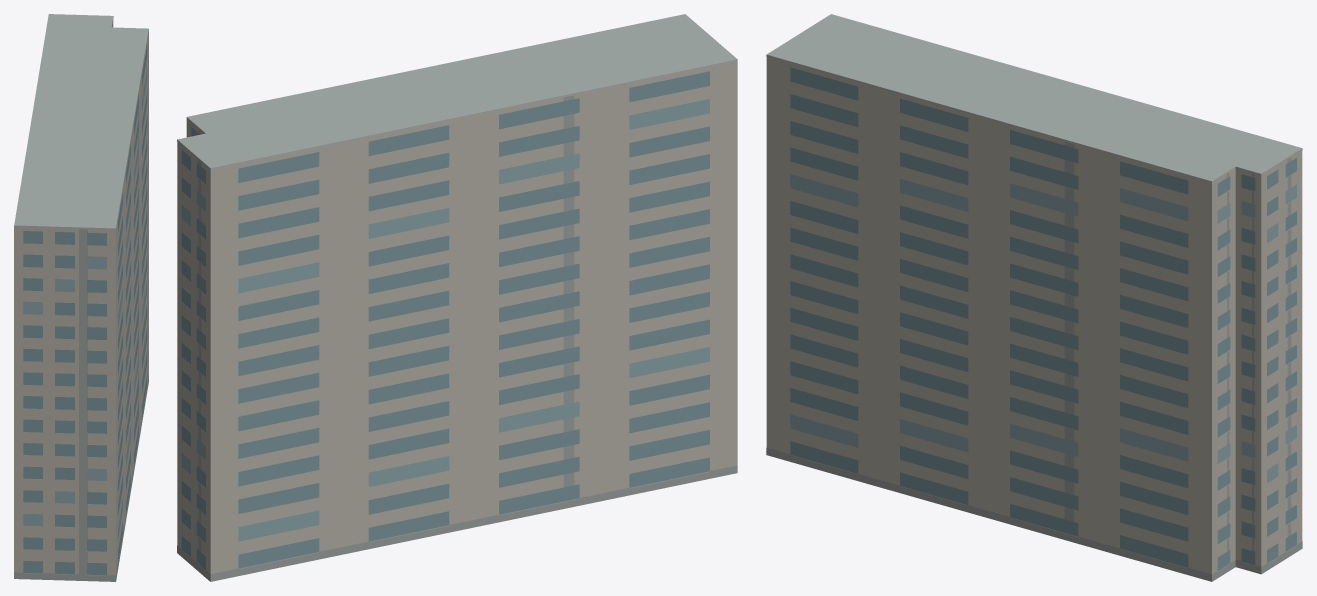
The model's file is residential-fb25520d-c044-4dc0-ac89-6757f46bca53.glb.
The picture shows the model from 3 angles, left to right: view 1: azimuth 30°, elevation 25°; view 2: azimuth 150°, elevation 25°; view 3: azimuth 270°, elevation 25°; orthographic projection. The views are drawn at different scales.
Parts seen in each view (by area): view 1: residential-fb25520d-c044-4dc0-ac89-6757f46bca53.tmp; view 2: residential-fb25520d-c044-4dc0-ac89-6757f46bca53.tmp; view 3: residential-fb25520d-c044-4dc0-ac89-6757f46bca53.tmp.
Boxes of the visible parts, x1=… form: residential-fb25520d-c044-4dc0-ac89-6757f46bca53.tmp: x1=14, y1=14, x2=148, y2=581; residential-fb25520d-c044-4dc0-ac89-6757f46bca53.tmp: x1=177, y1=14, x2=737, y2=581; residential-fb25520d-c044-4dc0-ac89-6757f46bca53.tmp: x1=766, y1=14, x2=1302, y2=581.
Bounding box in the file's own units: 41.02 × 45.75 × 55.49.
